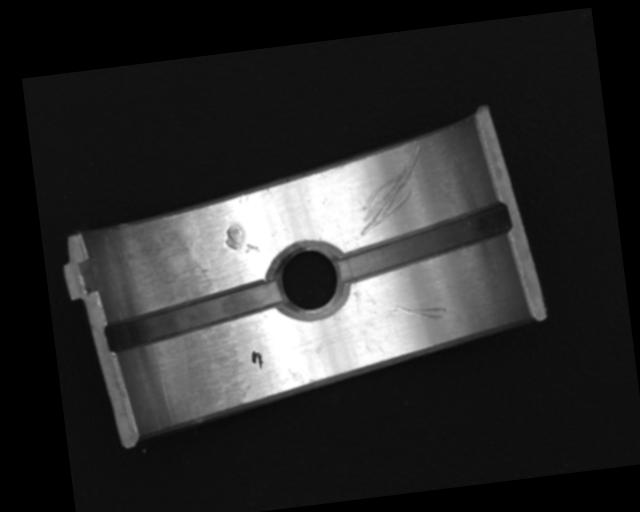blot: (249, 348, 264, 370)
bruise: (222, 220, 259, 256)
gap: (332, 203, 514, 283), (100, 281, 284, 353)
hole: (269, 240, 347, 323)
nick: (349, 146, 433, 237), (388, 300, 447, 325)
